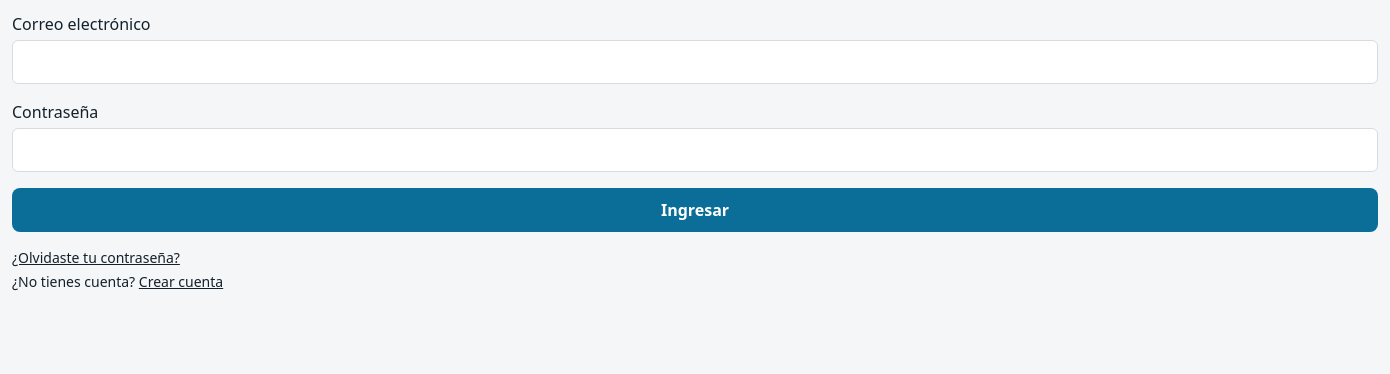
Test: LoginForm › FR-006: al superar el límite por IP pide esperar
Type "persona@ejemplo.com" into the field labelled "Correo electrónico".
click(695, 62); type("persona@ejemplo.com")  # box [12,40,1378,84]
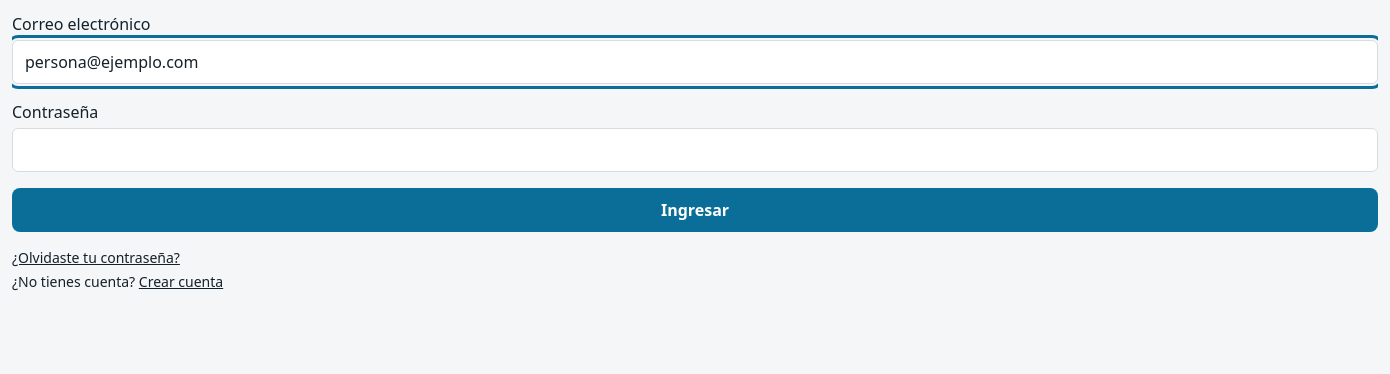
Type "una-clave-muy-larga" into the password field labelled "Contraseña".
click(695, 150); type("una-clave-muy-larga")  # box [12,128,1378,172]
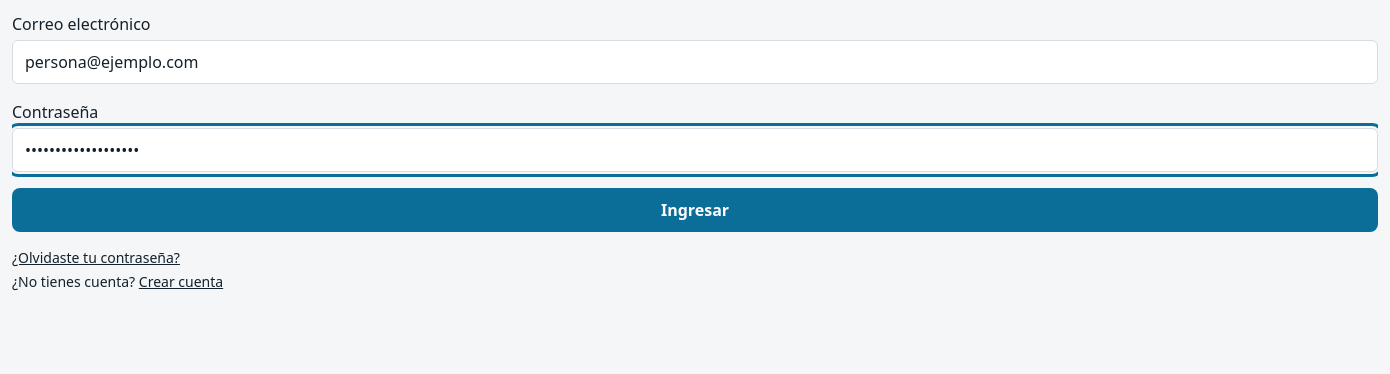
Click the button "Ingresar".
click(695, 210)  # box [12,188,1378,232]
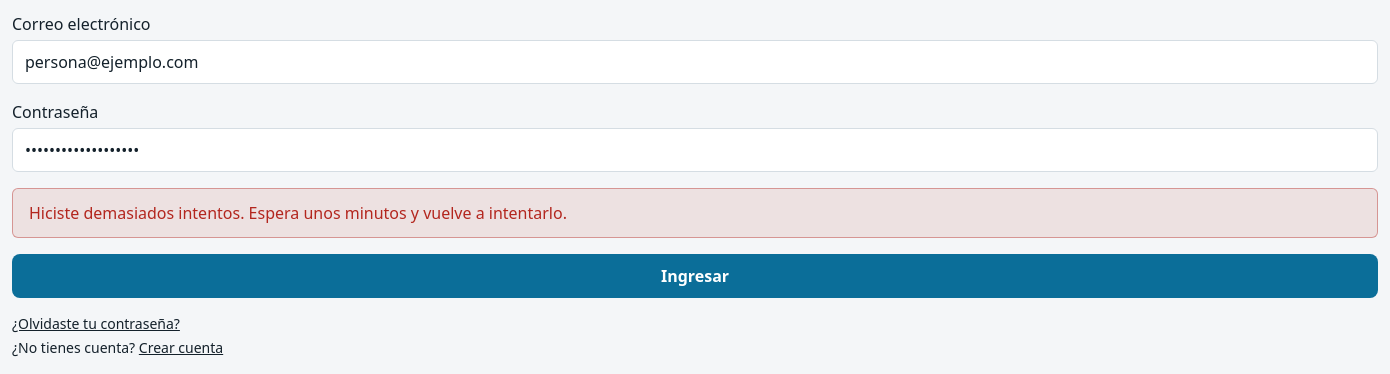
Expected: the message reads "Hiciste demasiados intentos. Espera unos minutos y vuelve a intentarlo.", [29,202,567,224]
